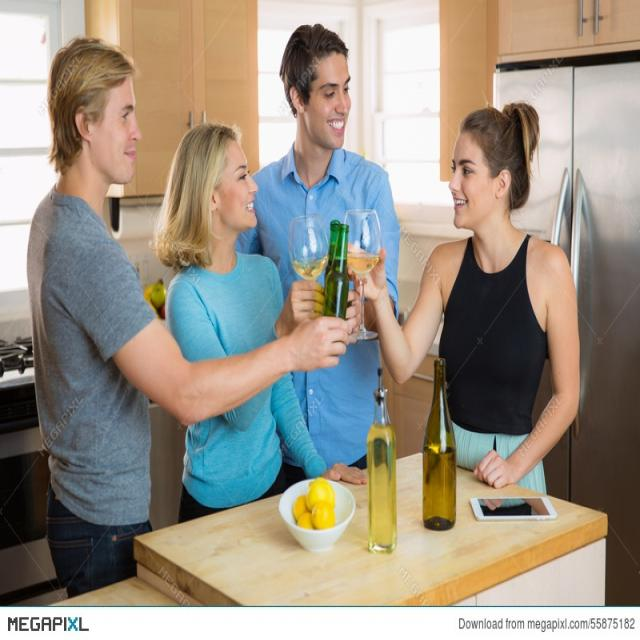body: (23, 34, 354, 603), (341, 99, 583, 497), (153, 122, 370, 524), (228, 18, 402, 484), (470, 488, 558, 528)
